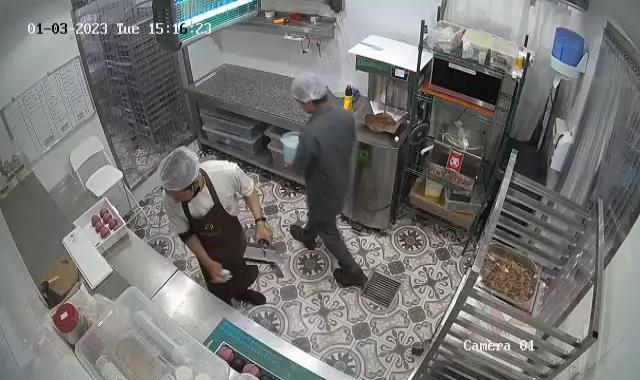hairnet: (155, 146, 200, 201), (288, 72, 328, 105)
